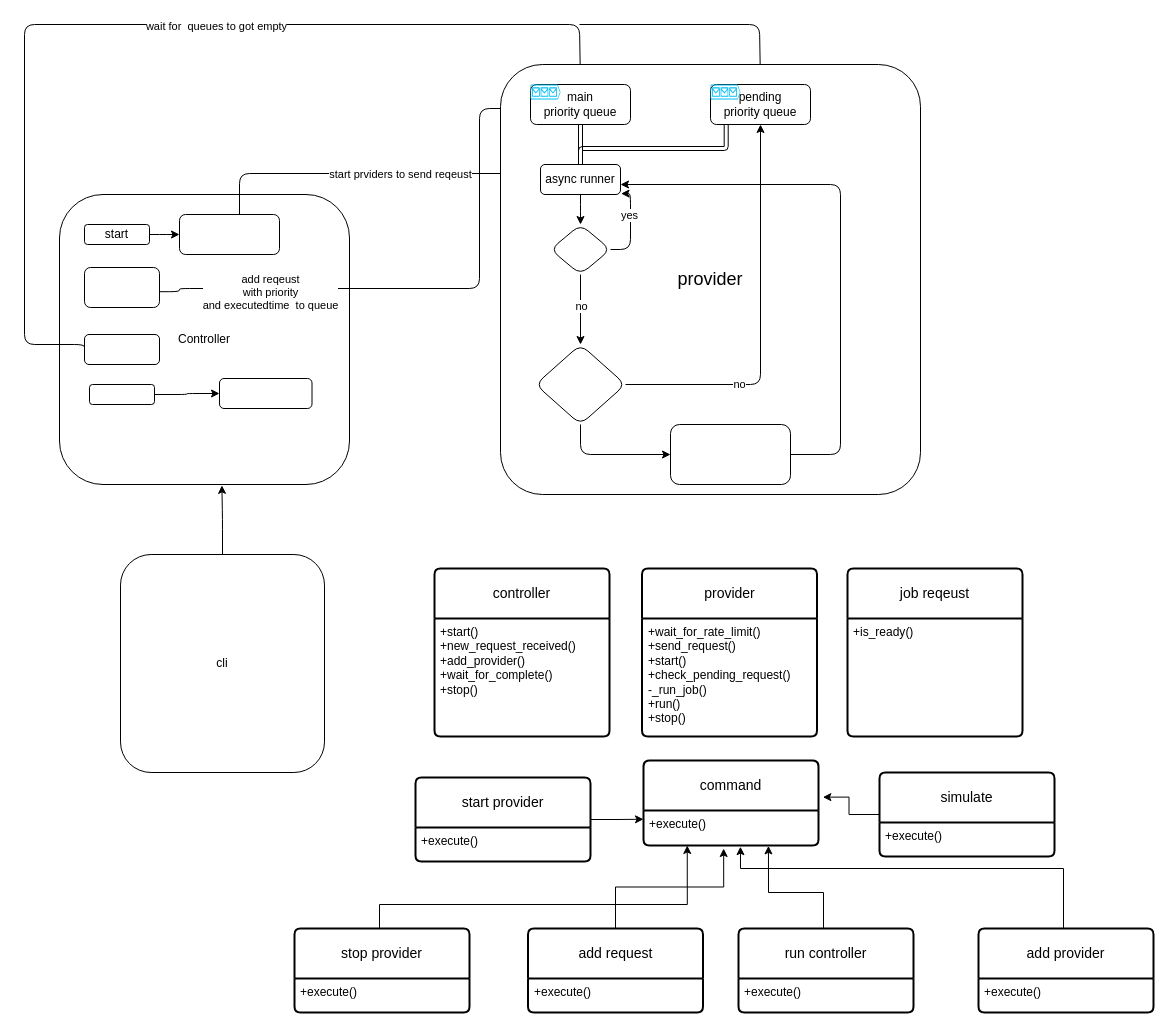
The diagram is 1172 pixels wide and 1031 high, and some of its shapes have lost their labels. Each missing label, with the box of its shape:
add new reqiest: (84, 266, 160, 308)
cancel all async task: (218, 378, 312, 408)
create async task per provider: (178, 214, 280, 254)
is arrive to execute time: (534, 344, 626, 424)
is empty: (550, 224, 610, 274)
send request: (670, 424, 790, 484)
stop: (88, 384, 154, 404)
wait for complete: (84, 334, 160, 364)
